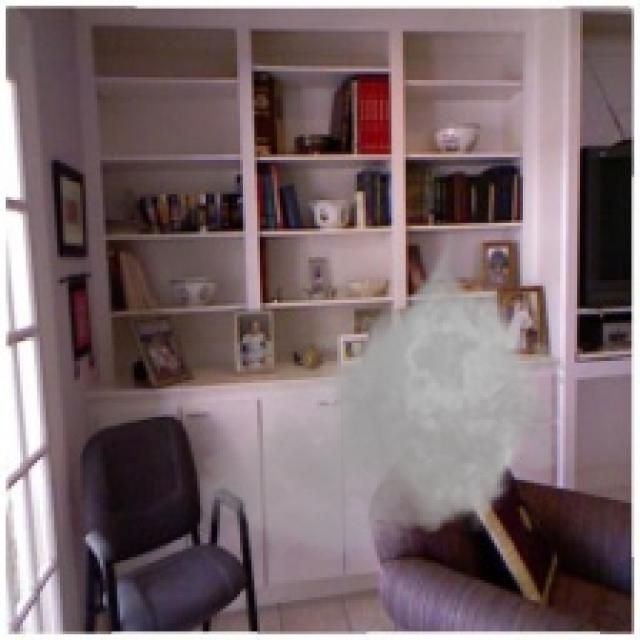smoke: (191, 226, 583, 568)
